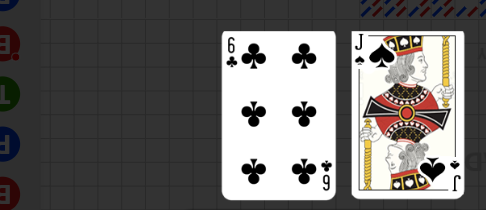6C: (225, 35, 239, 70), (318, 158, 332, 192)
JS: (353, 33, 397, 80), (420, 154, 464, 200)
